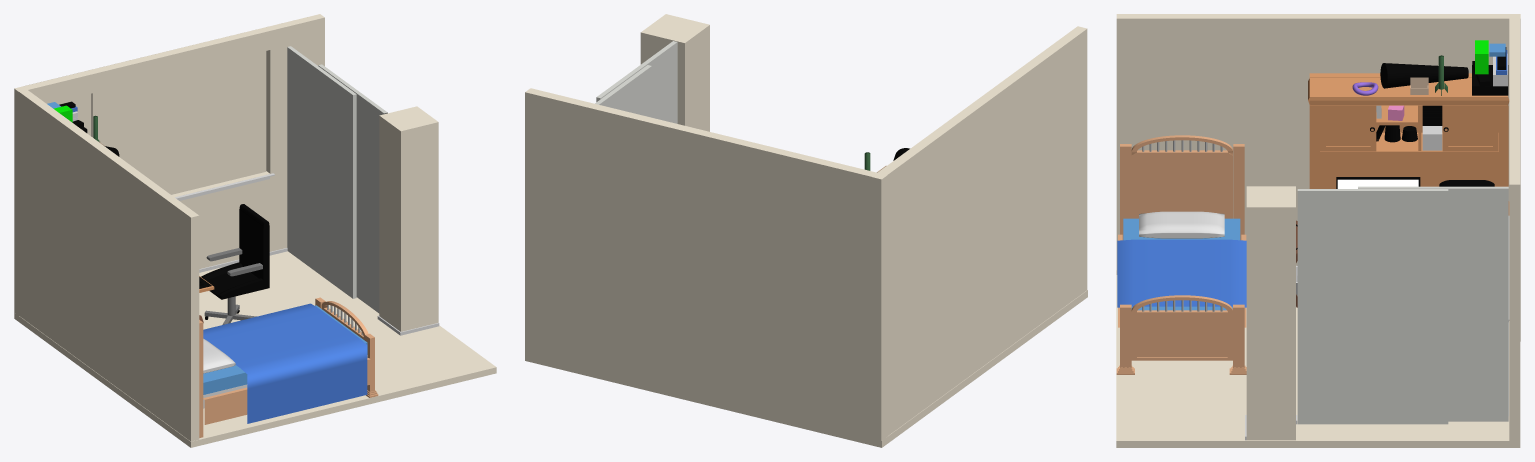
The model's file is RoomV4.glb.
3 renders of one model, left to right at view 1: azimuth 30°, elevation 25°; view 2: azimuth 150°, elevation 25°; view 3: azimuth 270°, elevation 25°, orthographic. The views are drawn at different scales.
Parts seen in each view (by area): view 1: Cube, Cube.044, Cube.042, Plane, Cube.043, Cube.047, Cube.033, Cube.046, Cube.040, Cube.041, Cube.031, Cube.037; view 2: Cube, Cube.042, Cube.043, Cube.044; view 3: Cube, Cube.043, Cube.044, Cube.042, Plane, Cube.164, Cube.037, Cube.002, Cube.038, Cube.009, Cube.015, Cube.012 (+14 smaller).
Boxes of the visible parts, <box> form: Cube: <box>14,14,496,447</box>; Cube.044: <box>287,46,356,298</box>; Cube.042: <box>379,106,438,331</box>; Plane: <box>203,303,367,423</box>; Cube.043: <box>318,64,387,313</box>; Cube.047: <box>239,204,269,289</box>; Cube.033: <box>203,358,370,424</box>; Cube.046: <box>201,262,263,299</box>; Cube.040: <box>203,305,367,394</box>; Cube.041: <box>203,338,235,373</box>; Cube.031: <box>199,320,203,437</box>; Cube.037: <box>321,301,368,340</box>; Cube: <box>525,26,1087,447</box>; Cube.042: <box>640,14,709,131</box>; Cube.043: <box>596,41,677,123</box>; Cube.044: <box>595,65,651,117</box>; Cube: <box>1116,14,1520,447</box>; Cube.043: <box>1297,189,1448,424</box>; Cube.044: <box>1358,186,1508,421</box>; Cube.042: <box>1246,186,1295,440</box>; Plane: <box>1117,239,1246,307</box>; Cube.164: <box>1131,135,1232,218</box>; Cube.037: <box>1131,295,1232,360</box>; Cube.002: <box>1309,73,1498,188</box>; Cube.038: <box>1308,77,1509,105</box>; Cube.009: <box>1320,105,1376,151</box>; Cube.015: <box>1442,105,1498,151</box>; Cube.012: <box>1320,132,1498,160</box>.
Size of the model in its own units: 14.64 by 10.53 by 14.65.
